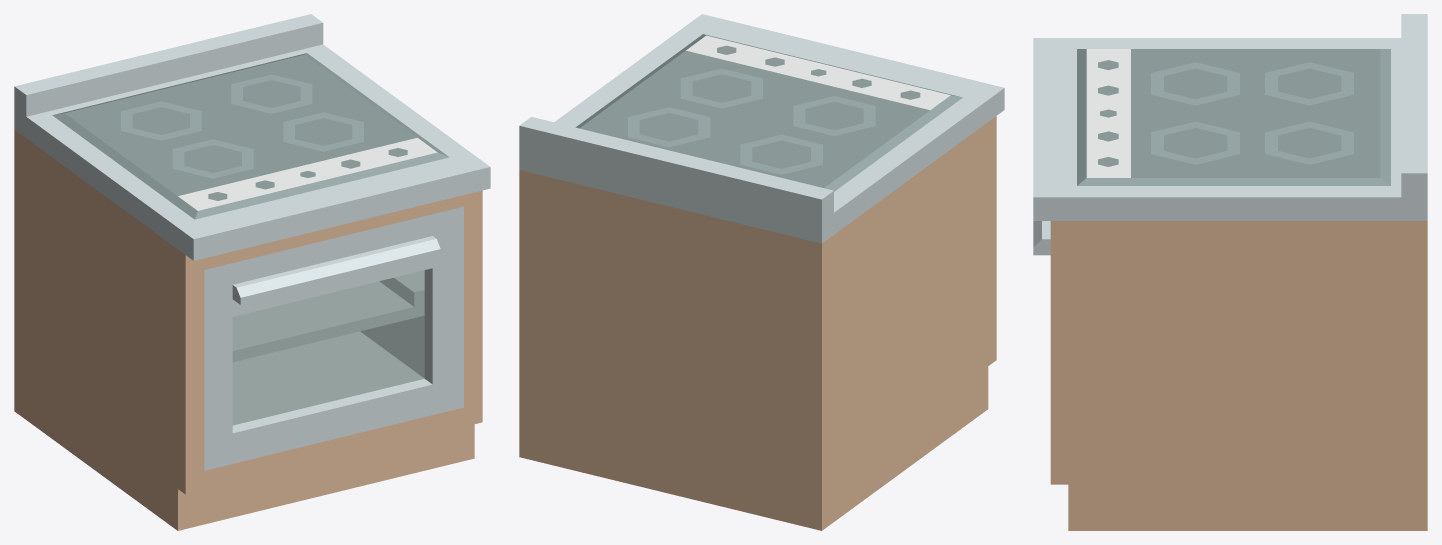
File: kitchenStoveElectric.glb
3 views of the same model, side by side, from view 1: azimuth 30°, elevation 25°; view 2: azimuth 150°, elevation 25°; view 3: azimuth 270°, elevation 25° (orthographic). The views are drawn at different scales.
Parts seen in each view (by area): view 1: kitchenStoveElectric(Clone); view 2: kitchenStoveElectric(Clone); view 3: kitchenStoveElectric(Clone).
Part boxes in pixels (bbox=[...]): kitchenStoveElectric(Clone): bbox=[14, 14, 490, 530]; kitchenStoveElectric(Clone): bbox=[519, 14, 1004, 530]; kitchenStoveElectric(Clone): bbox=[1033, 14, 1427, 530].
Size of the model in its own units: 0.43 by 0.45 by 0.45.
